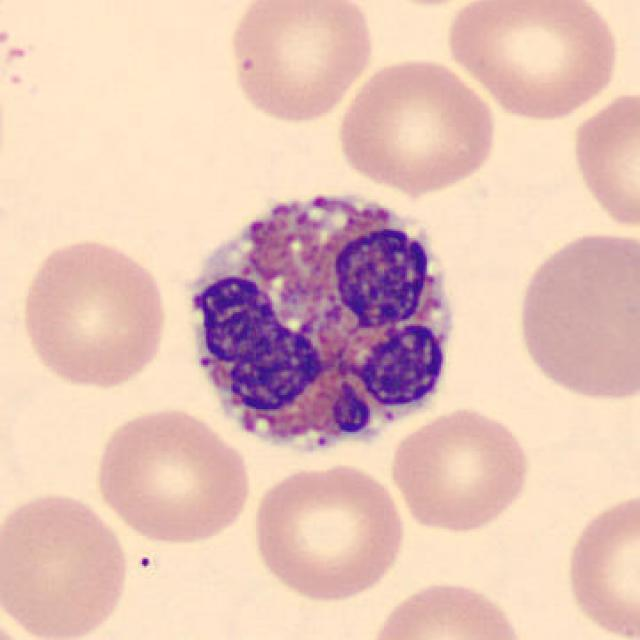Eosinophil: (170, 167, 477, 478)
RBC: (16, 233, 172, 393), (247, 458, 411, 605), (332, 53, 500, 196), (91, 404, 254, 546), (441, 0, 626, 123), (512, 226, 638, 406), (0, 486, 135, 640), (386, 404, 535, 536), (224, 0, 377, 125), (560, 486, 638, 640), (567, 84, 640, 234), (362, 576, 529, 640), (0, 603, 46, 640)
